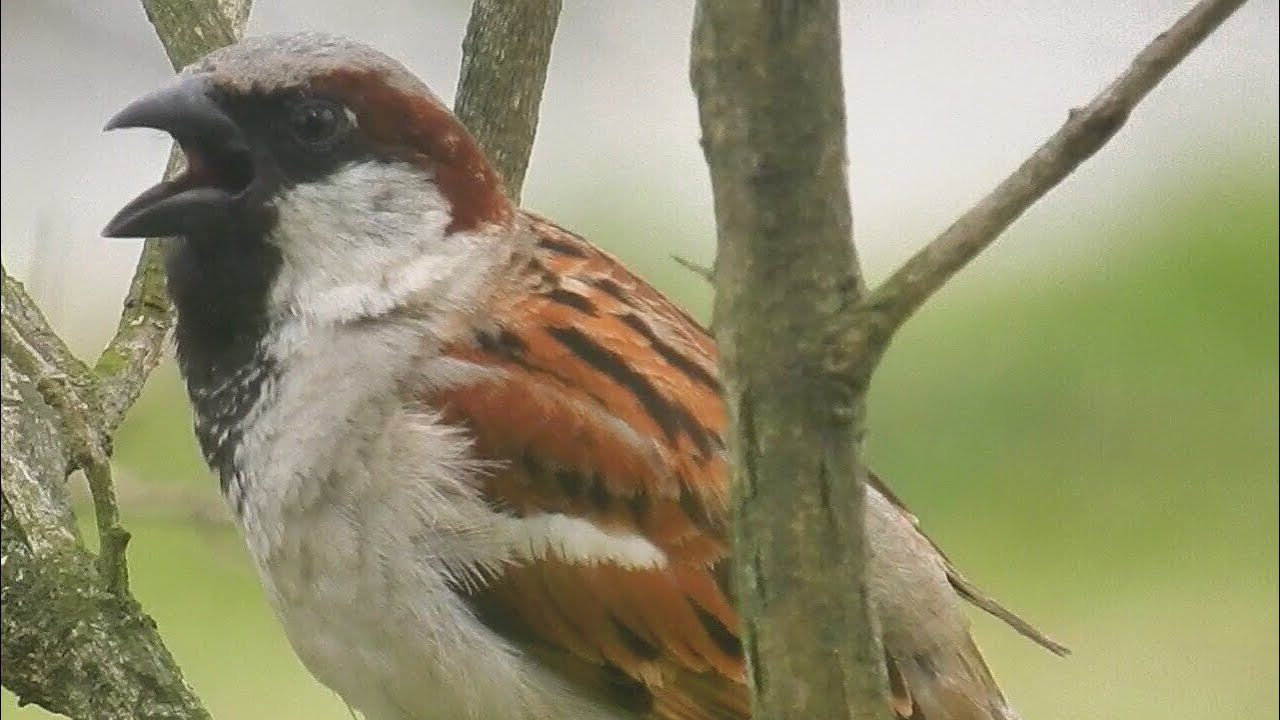bird: (78, 22, 1054, 720)
